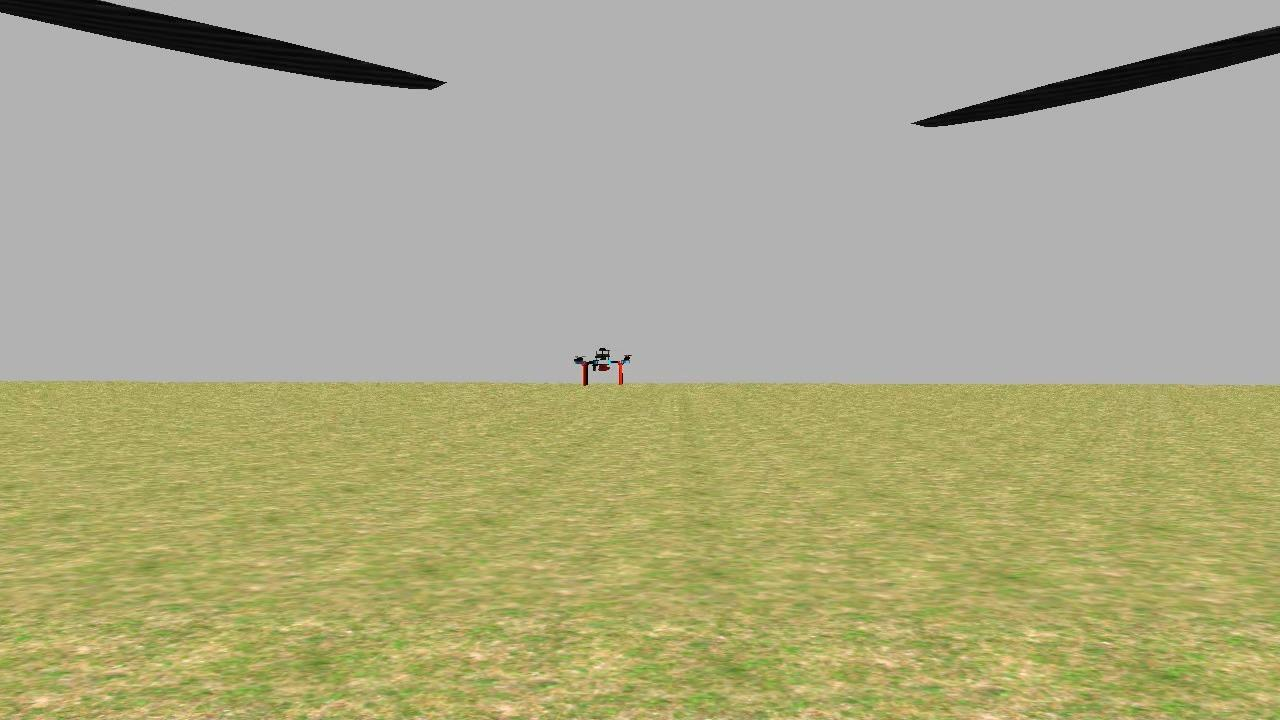UAV: (562, 324, 650, 399)
